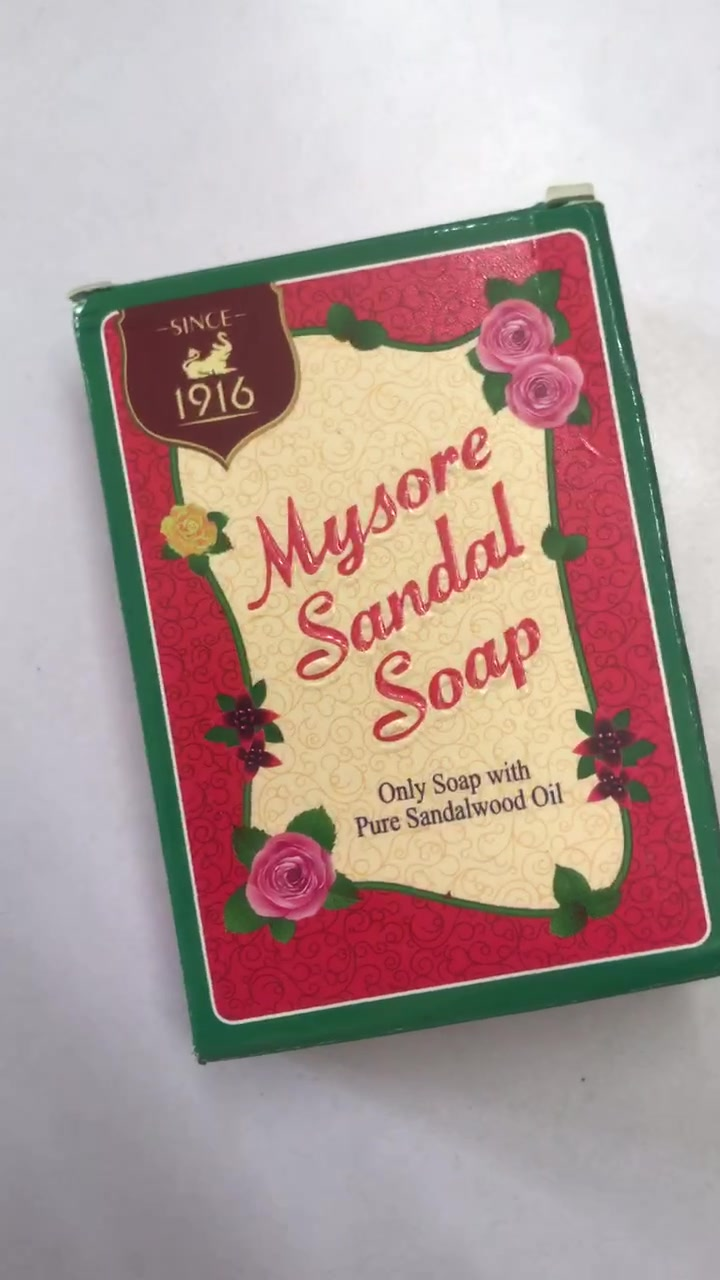mysore sandal soap: (78, 210, 720, 1062)
